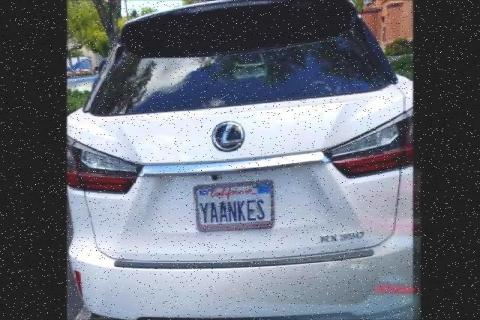LicensePlate: (192, 185, 274, 228)
